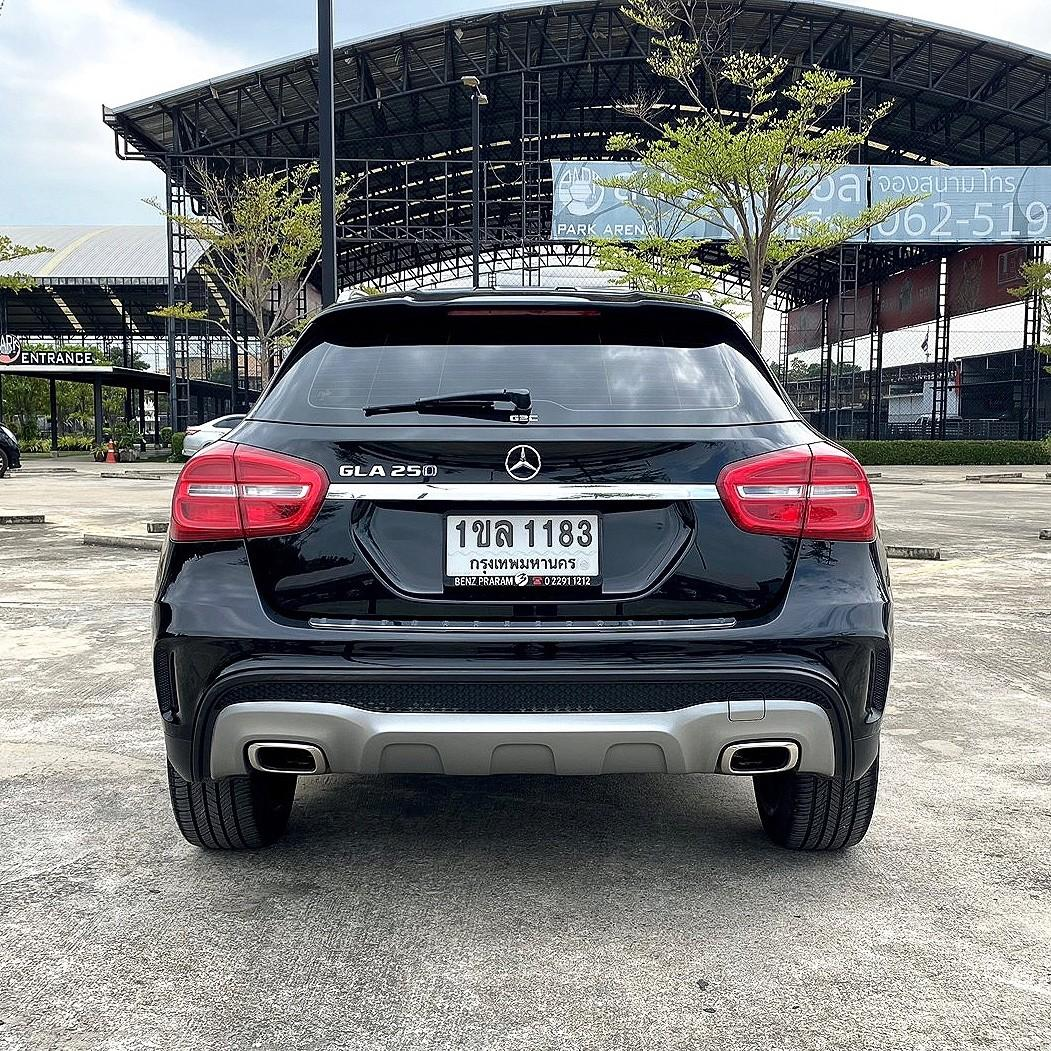license-plate: (441, 503, 602, 601)
